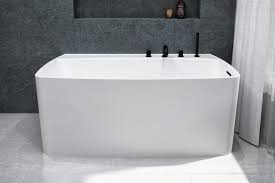bathub: (33, 46, 241, 158)
